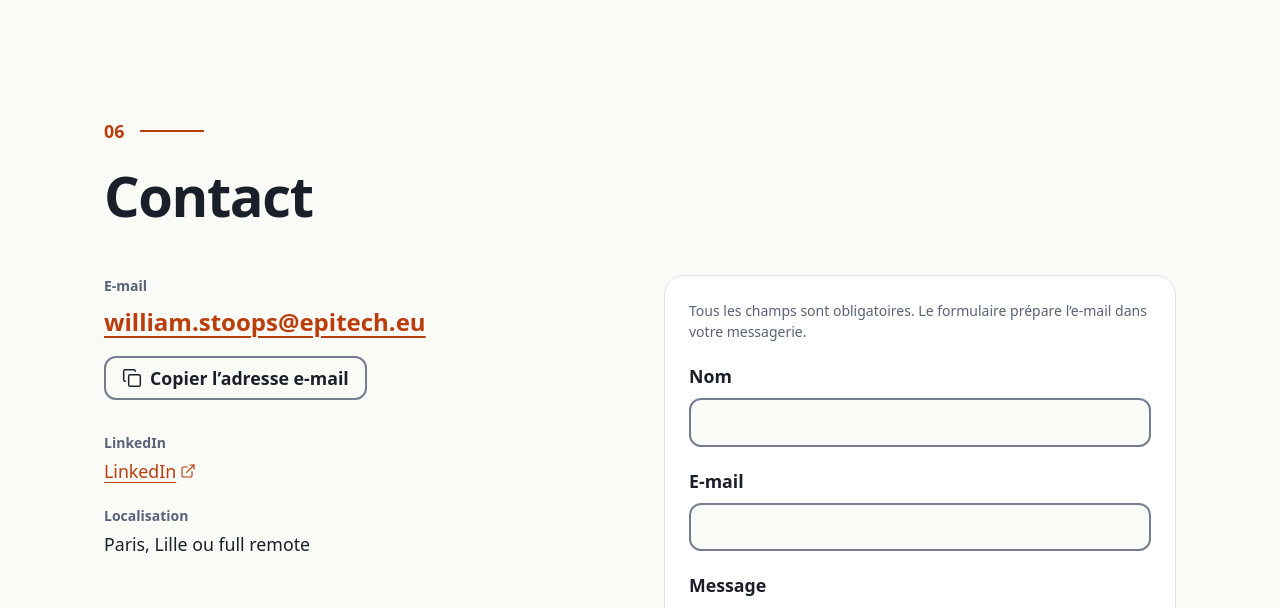
Test: ContactSection › says so when the browser refuses the copy
Step 1. Click the button "Copier l’adresse e-mail" → (235, 378), box [104, 356, 367, 400]
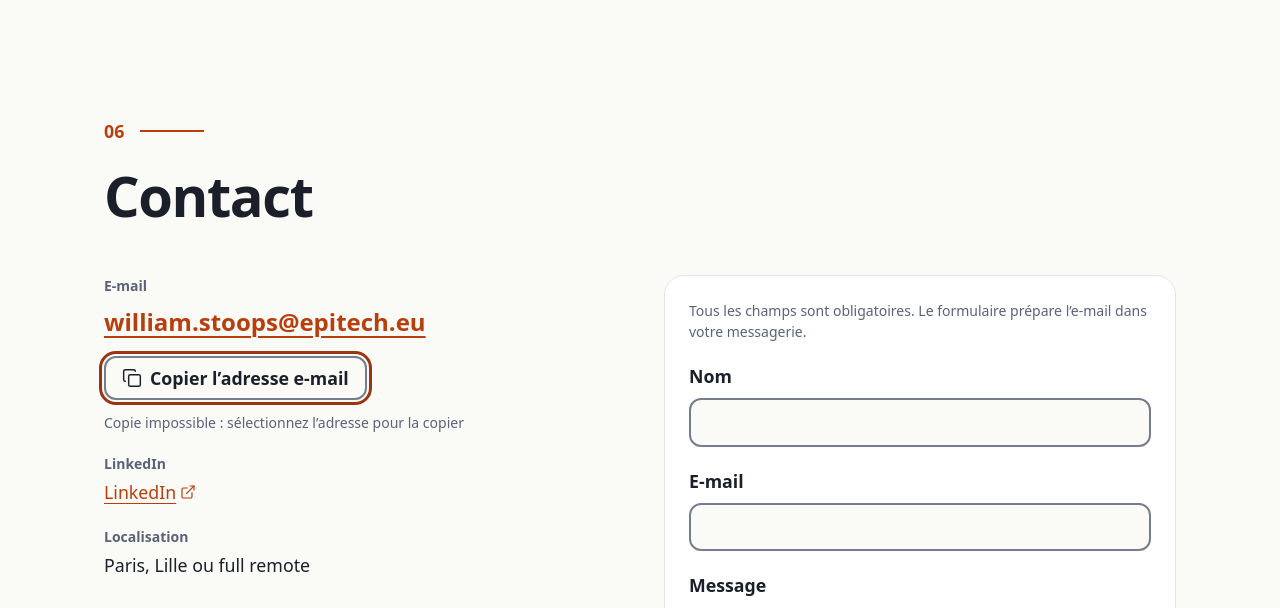
expect the text "Copie impossible : sélectionnez l’adresse pour la copier" is shown: met, box [104, 412, 464, 433]
